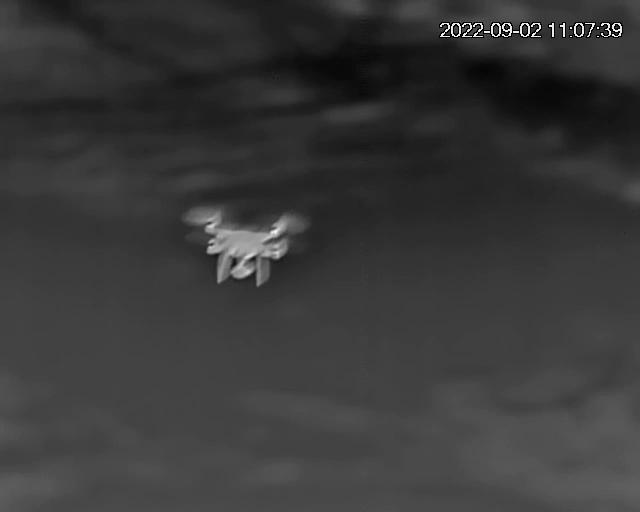DJI-Phantom: (188, 204, 303, 287)
